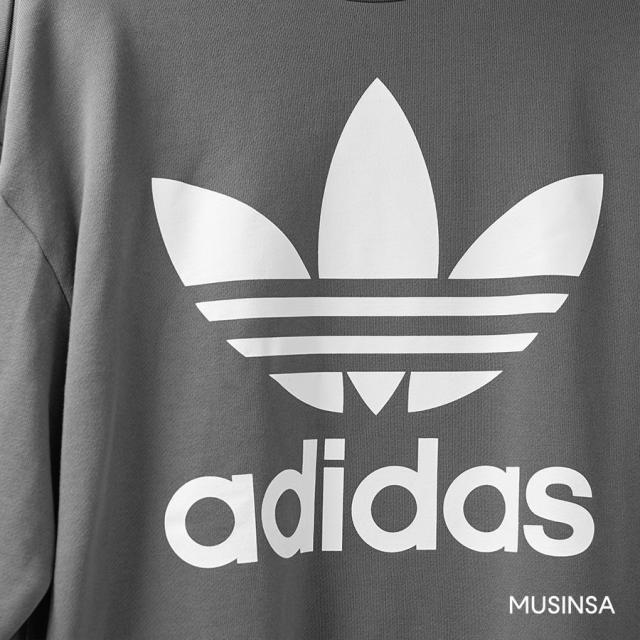Adidas: (129, 63, 624, 423)
